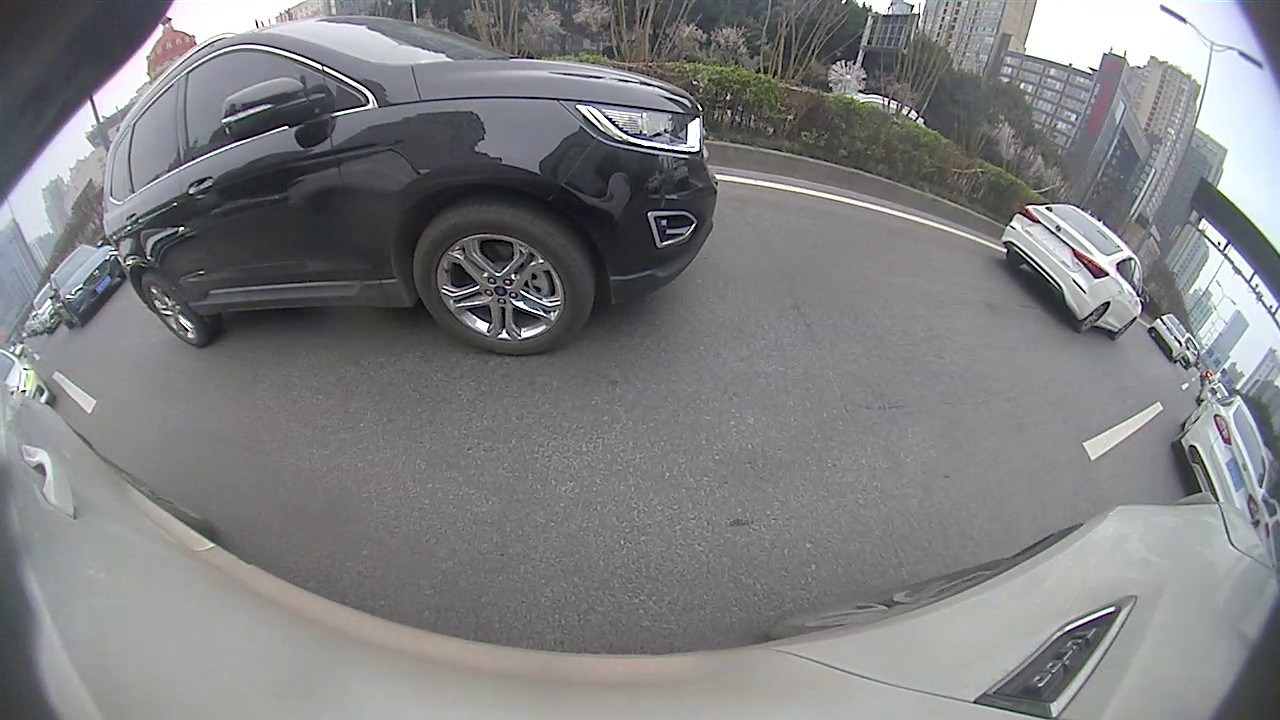car: (101, 15, 719, 359), (999, 203, 1152, 341), (1170, 386, 1269, 519), (46, 242, 129, 330), (1147, 314, 1193, 364)
front: (413, 202, 596, 354)
rear: (144, 272, 201, 349), (1080, 303, 1110, 333)
